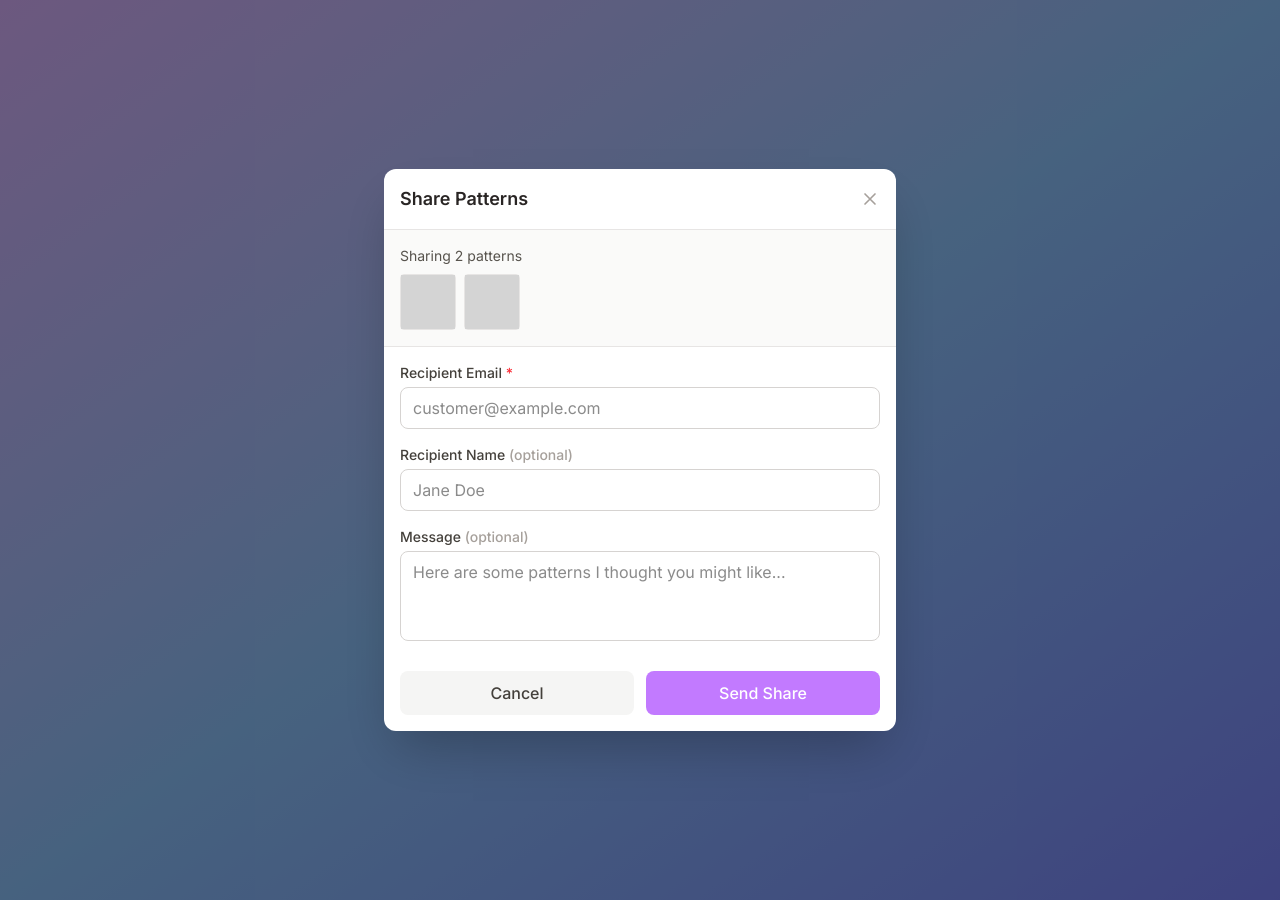
ShareModal › form submission › shows loading state during submission
Step 1. Type "test@example.com" into the field labelled "Recipient Email *" → coordinates (640, 408), box [400,387,880,429]
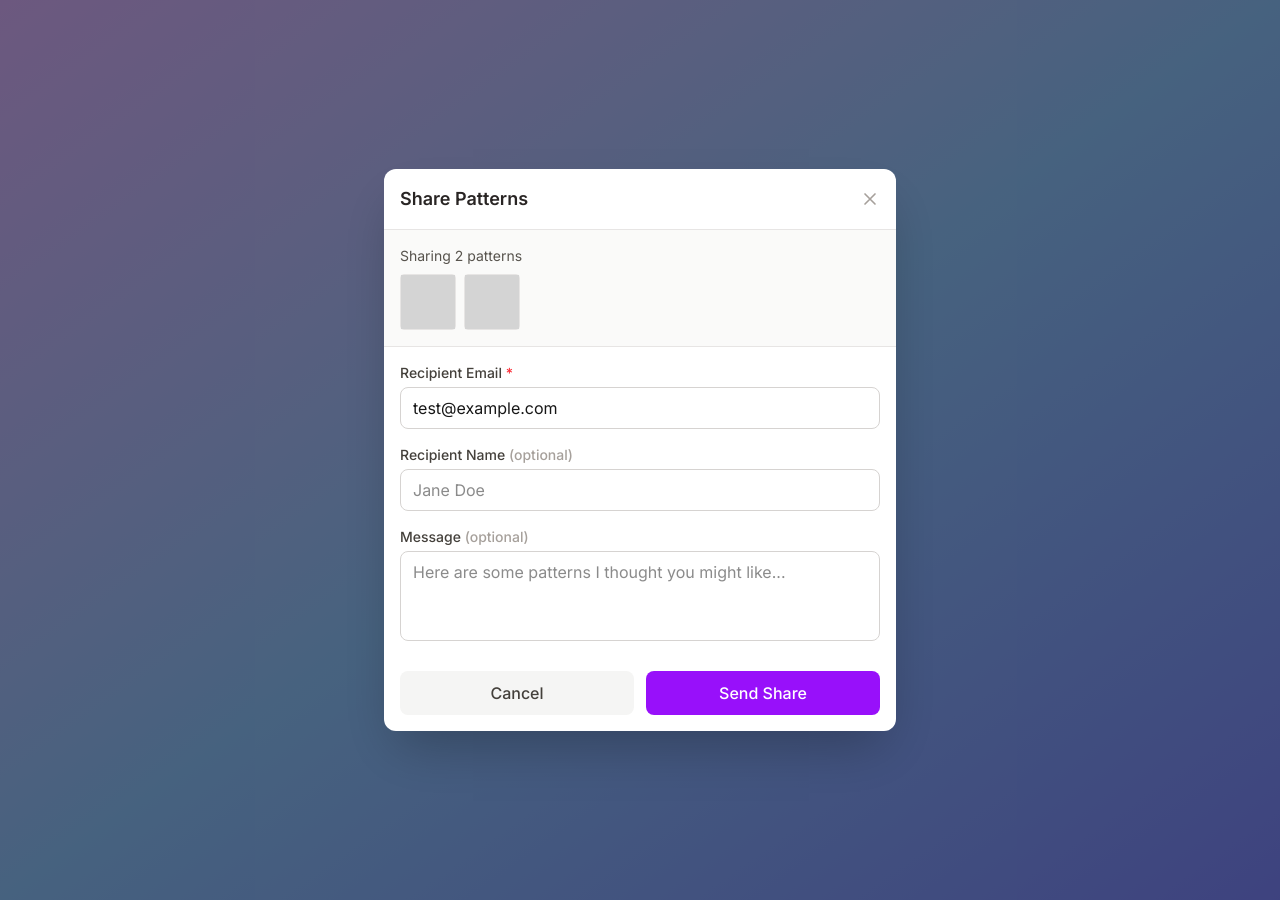
Step 2. Click the button "Send Share" → coordinates (763, 693), box [646,671,880,715]
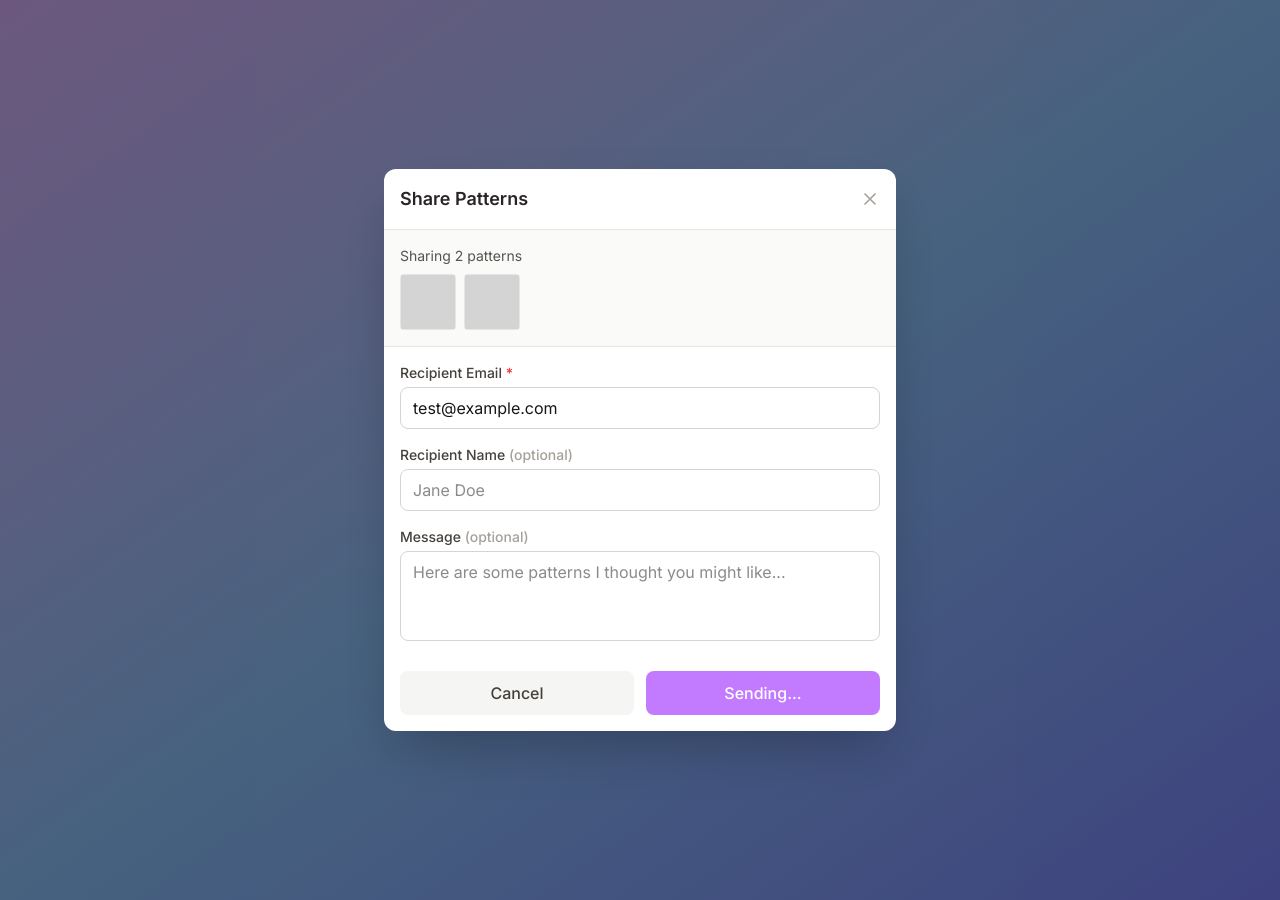
expect the button "Sending..." is shown: met, box [646,671,880,715]
